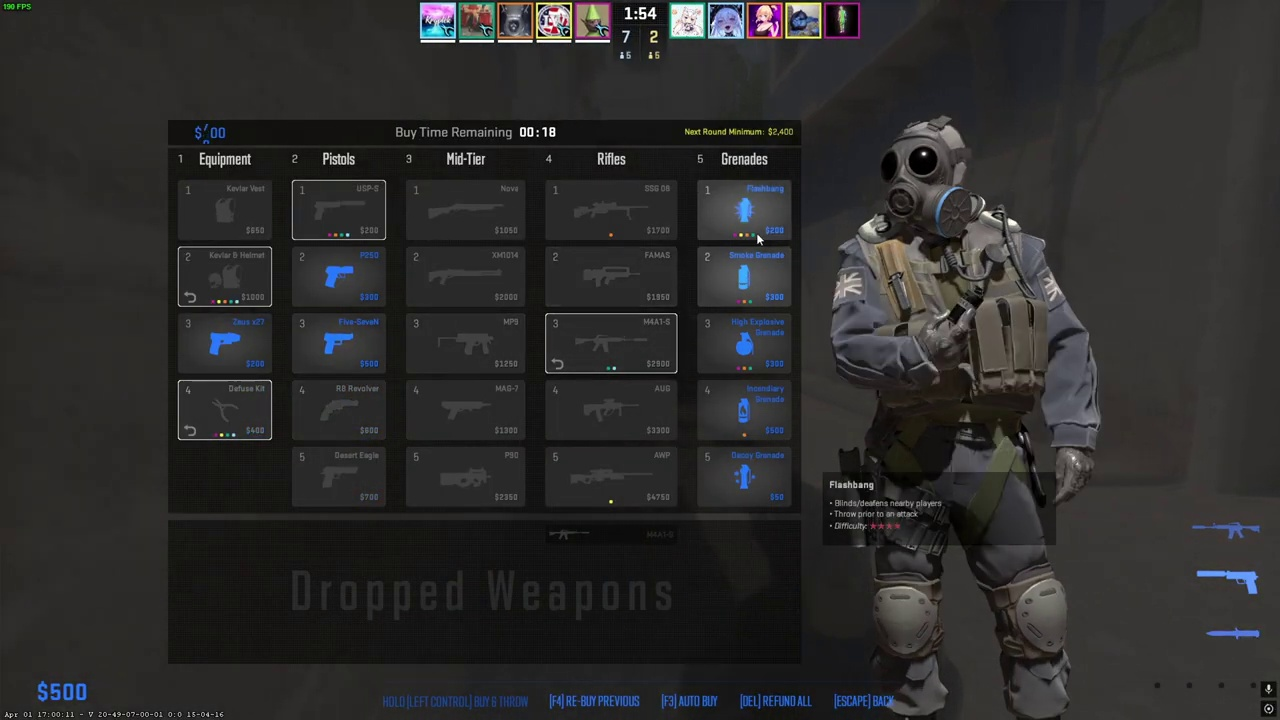CT: (833, 117, 1100, 720)
